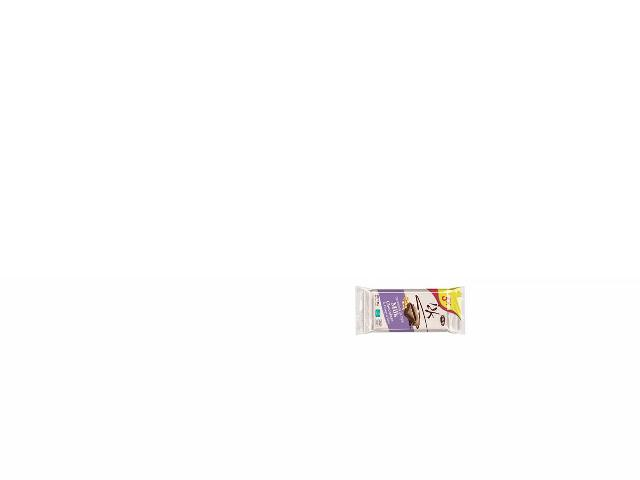chocolate: (354, 283, 468, 339)
